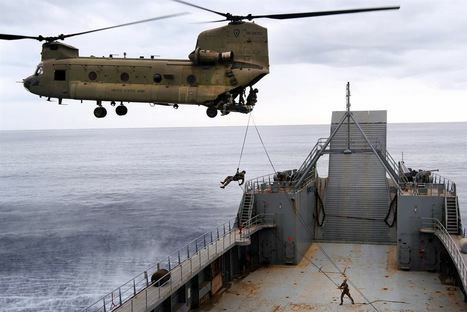chinook: (13, 3, 330, 116)
